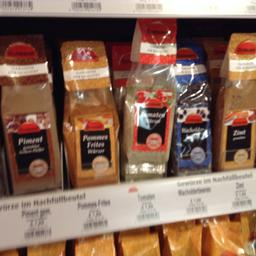spices: (1, 33, 62, 191), (58, 38, 121, 185), (120, 18, 178, 176), (214, 31, 255, 169), (172, 44, 212, 172)
